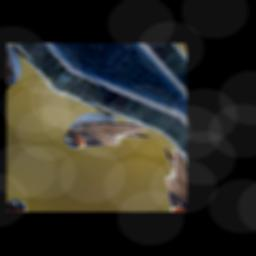Swallow: (58, 91, 157, 180)
